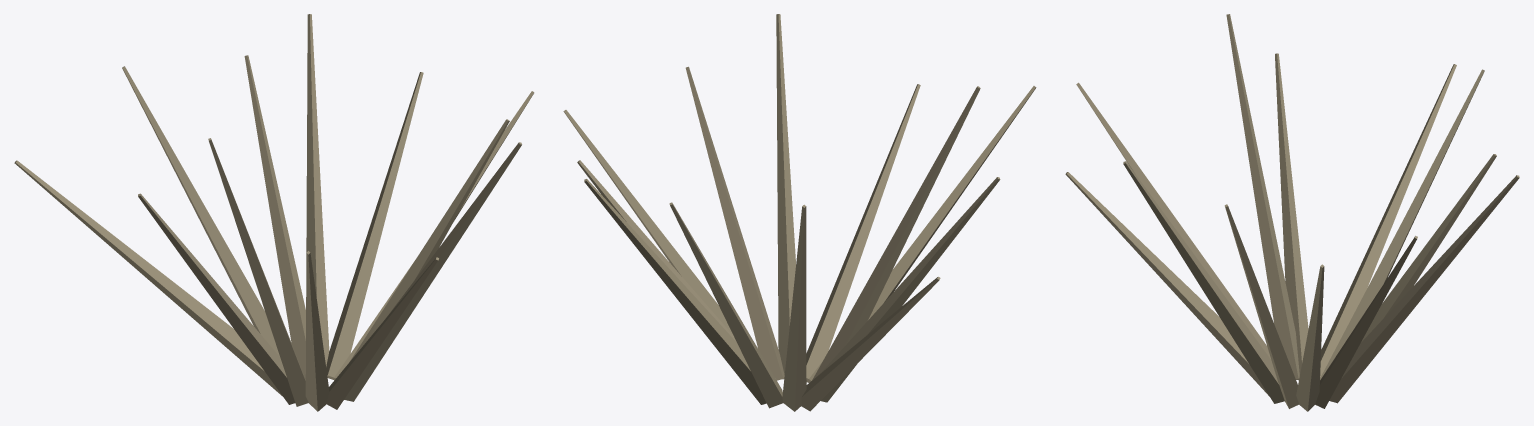
Rendered from GrassTuft.fbx.
3 views of the same model, side by side, from view 1: azimuth 30°, elevation 25°; view 2: azimuth 150°, elevation 25°; view 3: azimuth 270°, elevation 25° (orthographic). The views are drawn at different scales.
Visible parts, largest first — view 1: GrassTuft; view 2: GrassTuft; view 3: GrassTuft.
Part boxes in pixels (box(x1,y1,x2,y2)): GrassTuft: box(14, 14, 534, 411); GrassTuft: box(563, 14, 1036, 411); GrassTuft: box(1065, 14, 1519, 411).
Bounding box in the file's own units: 74.92 × 51.43 × 67.53.
